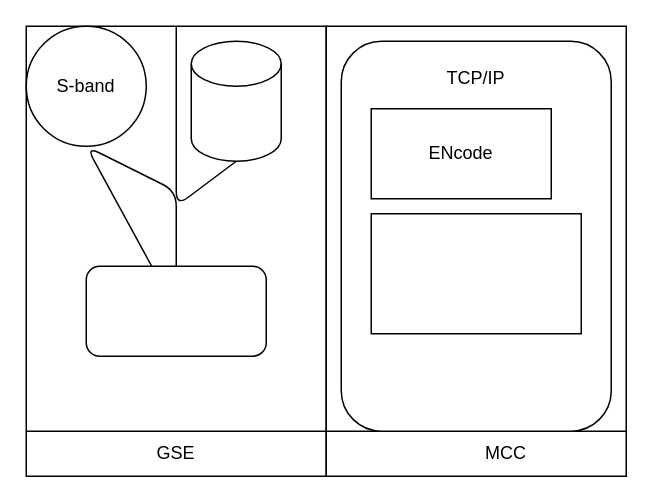
Image size: 654x503. Some labels were removed from this diagram. The box of each missing label's shape, as (x1, y1, x2, y2) in pixels:
HUF: (190, 40, 281, 161)
HUF BOX: (85, 265, 266, 356)
